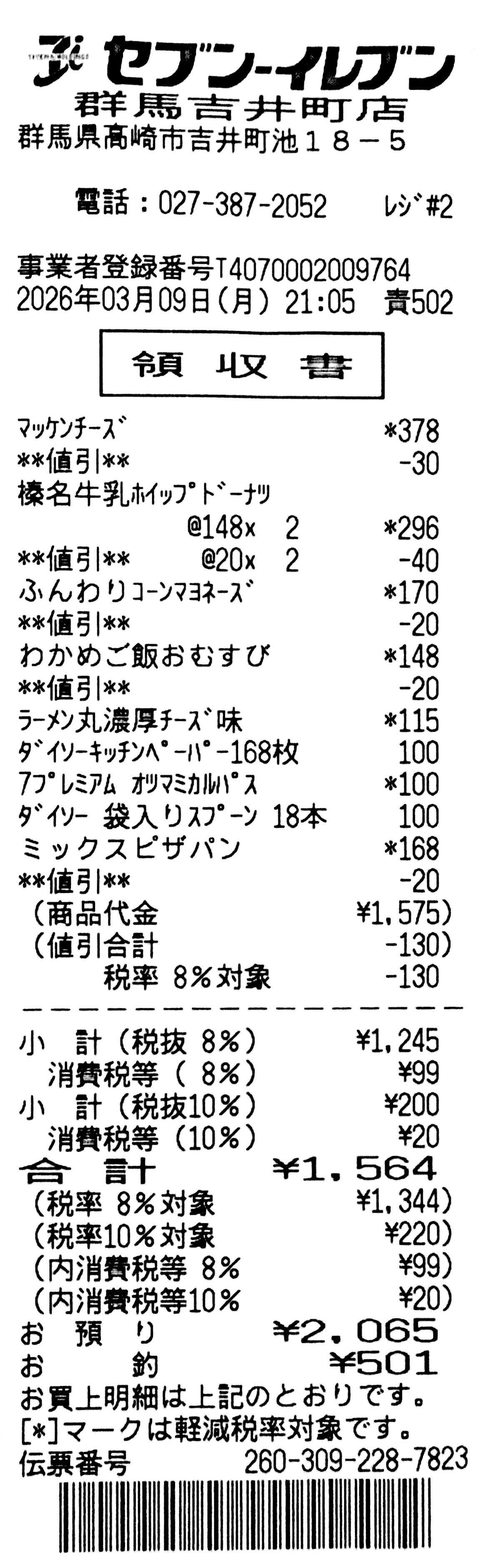Date: (16, 285, 209, 315)
Pay: (18, 1155, 438, 1185)
Shopname: (103, 34, 456, 91)
Telnum: (158, 189, 328, 220)
